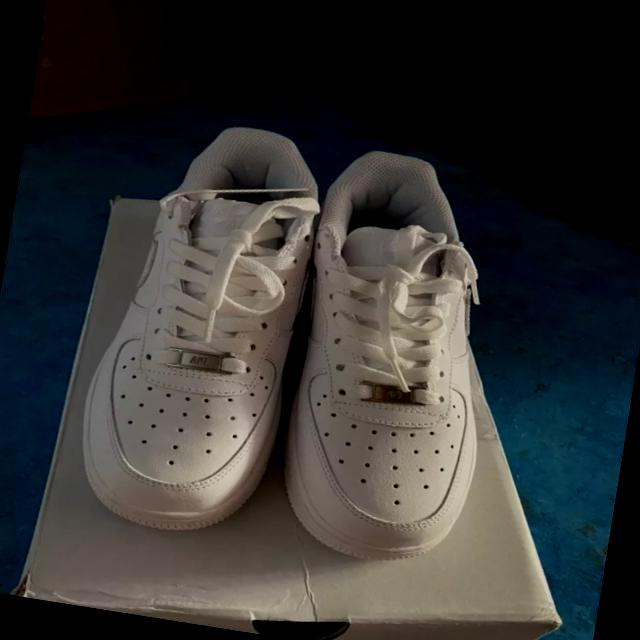nike_original_airforce: (63, 94, 341, 556), (260, 137, 530, 580)
